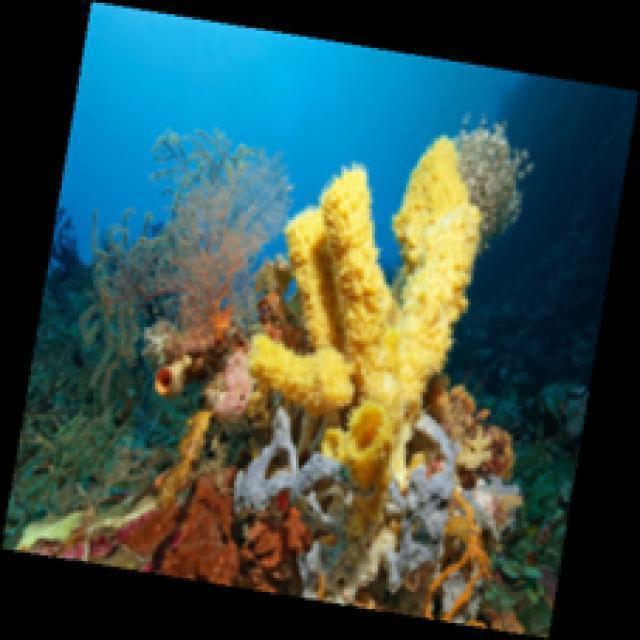Healthy: (243, 132, 486, 555), (102, 128, 292, 367), (114, 477, 312, 592)
